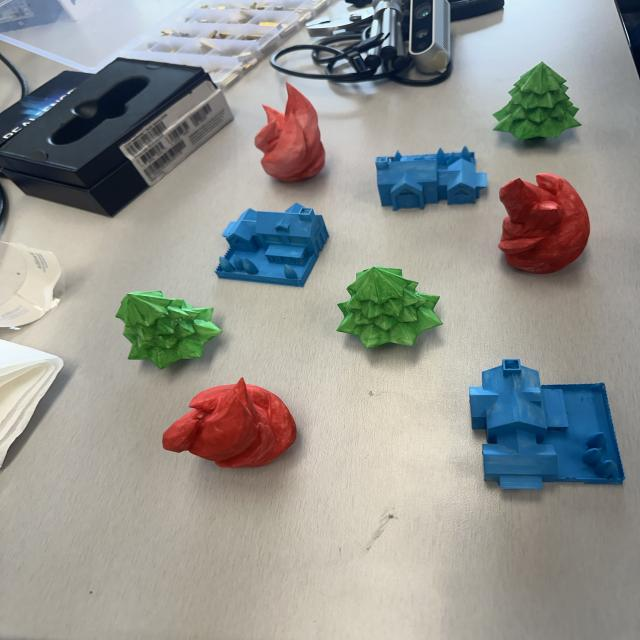fire: (158, 377, 300, 469), (498, 171, 591, 276), (252, 83, 328, 186)
house: (469, 359, 628, 491), (216, 202, 330, 288), (375, 146, 492, 212)
tree: (337, 266, 445, 351), (115, 289, 222, 370), (492, 60, 583, 144)
